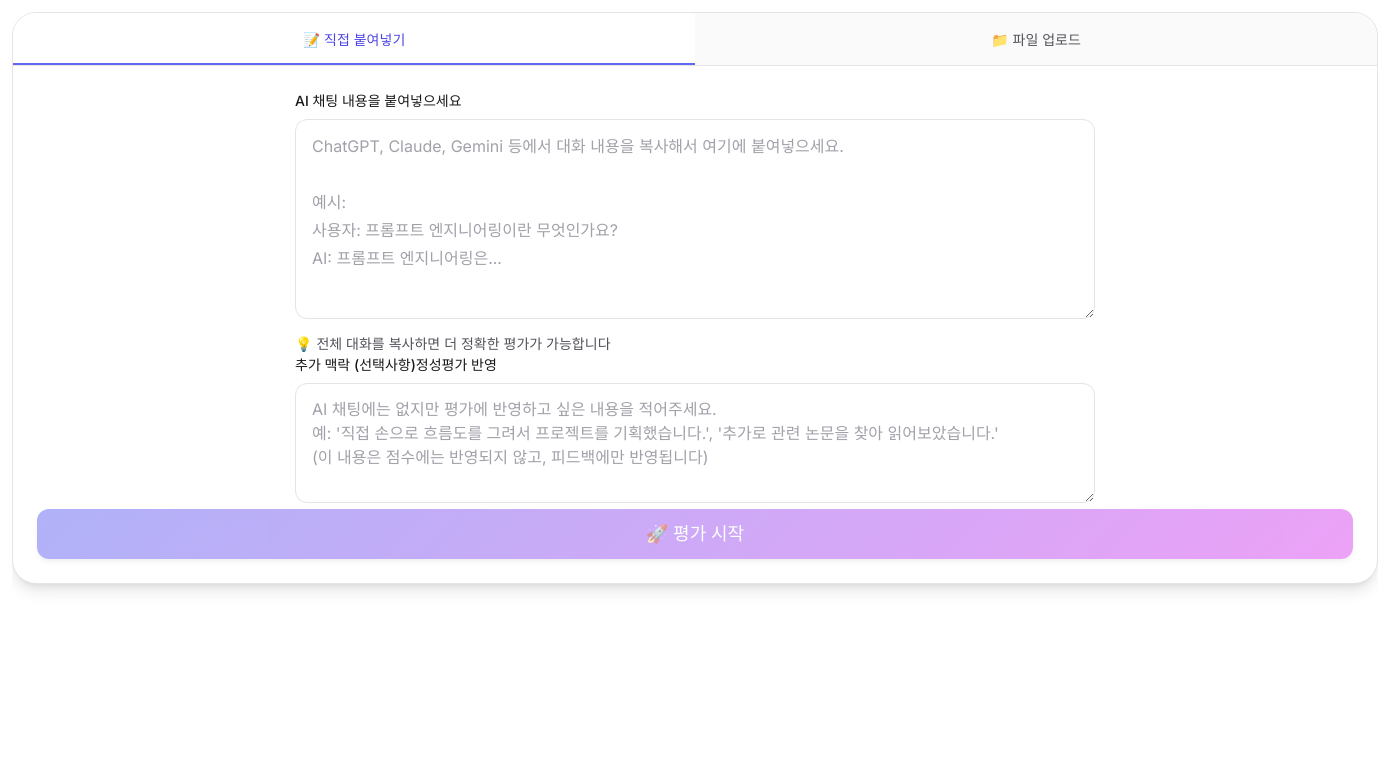
ChatInput › 탭 전환: "직접 붙여넣기" ↔ "파일 업로드"
Click the button "📁 파일 업로드" at (1036, 39), box [695,13,1377,65]
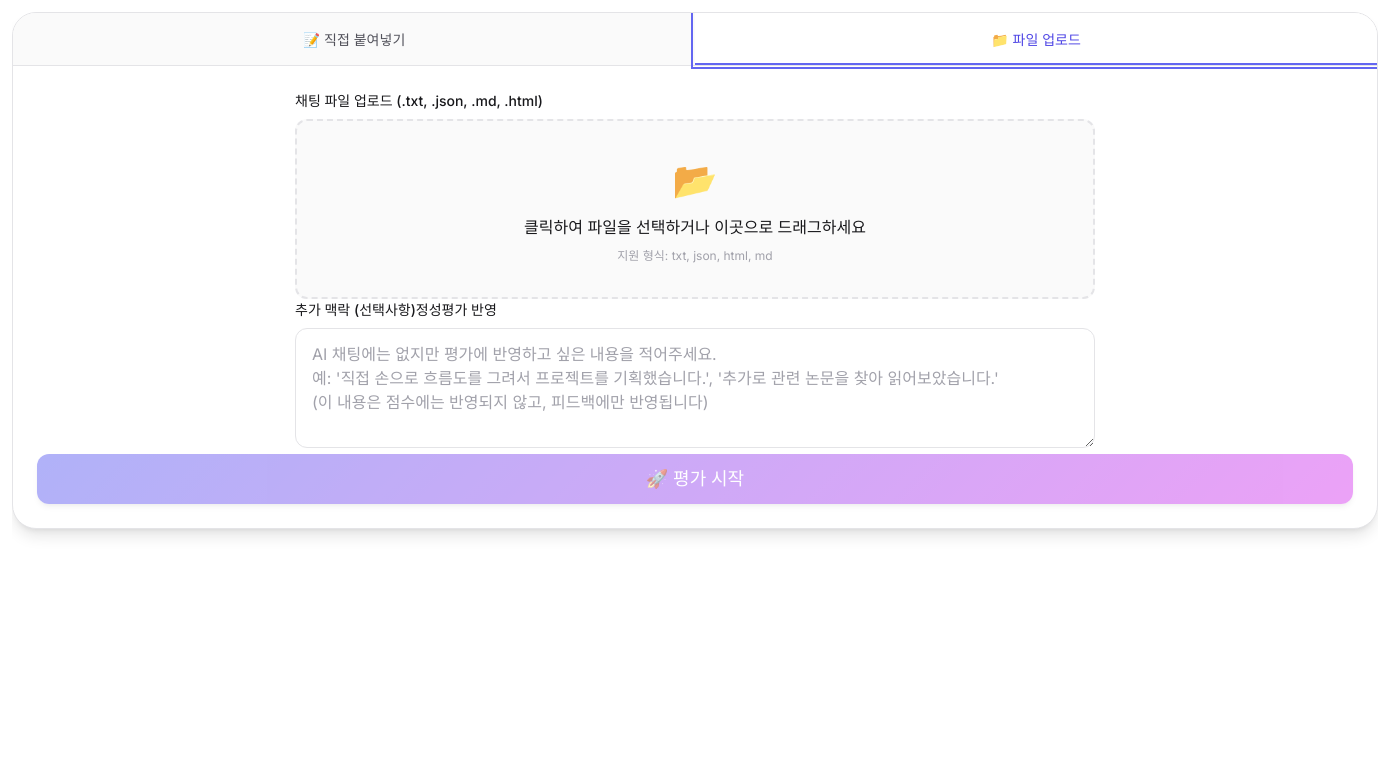
expect the text "채팅 파일 업로드 (.txt, .json, .md, .html)" is shown: met, box [295,92,543,109]
Click the button "📝 직접 붙여넣기" at (354, 39), box [13,13,695,65]
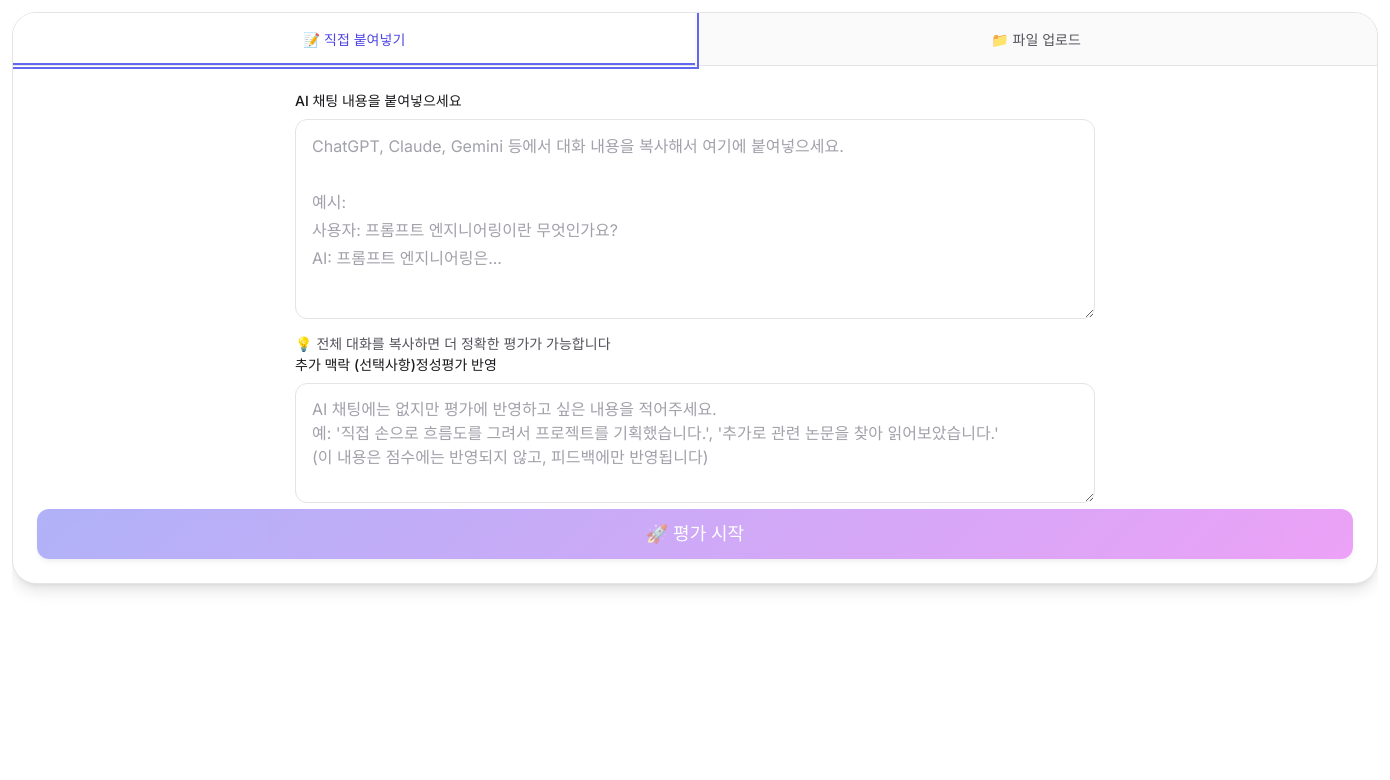
expect the text box labelled "AI 채팅 내용을 붙여넣으세요" is shown: met, box [295,119,1095,319]
